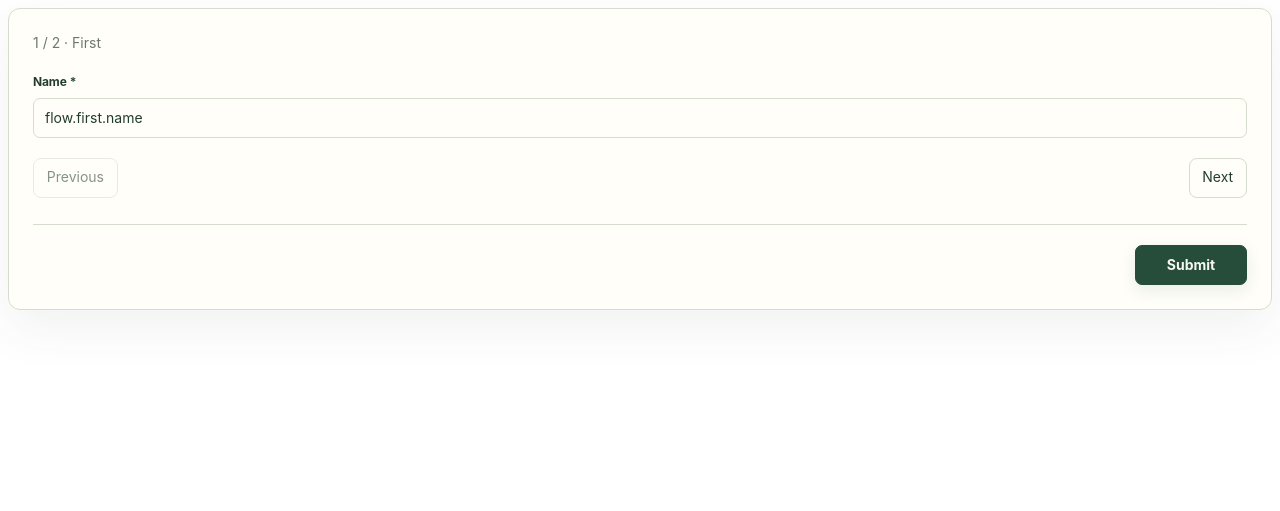
it: groups › reveals and focuses invalid nested inactive and collapsed sections on each submit
Step 1. Click the button "Submit" → coordinates (1191, 265), box x1=1135 y1=245 x2=1247 y2=285
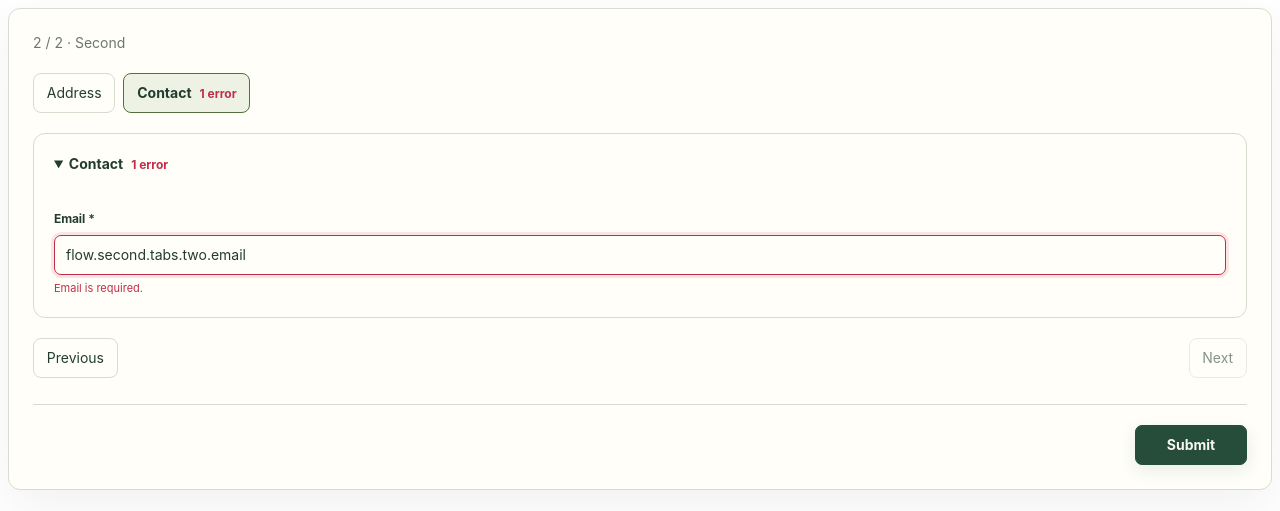
Check: the field labelled "Email *" is shown, box x1=54 y1=235 x2=1226 y2=275
Step 2. Click the tab "Address" → coordinates (74, 93), box x1=33 y1=73 x2=115 y2=113
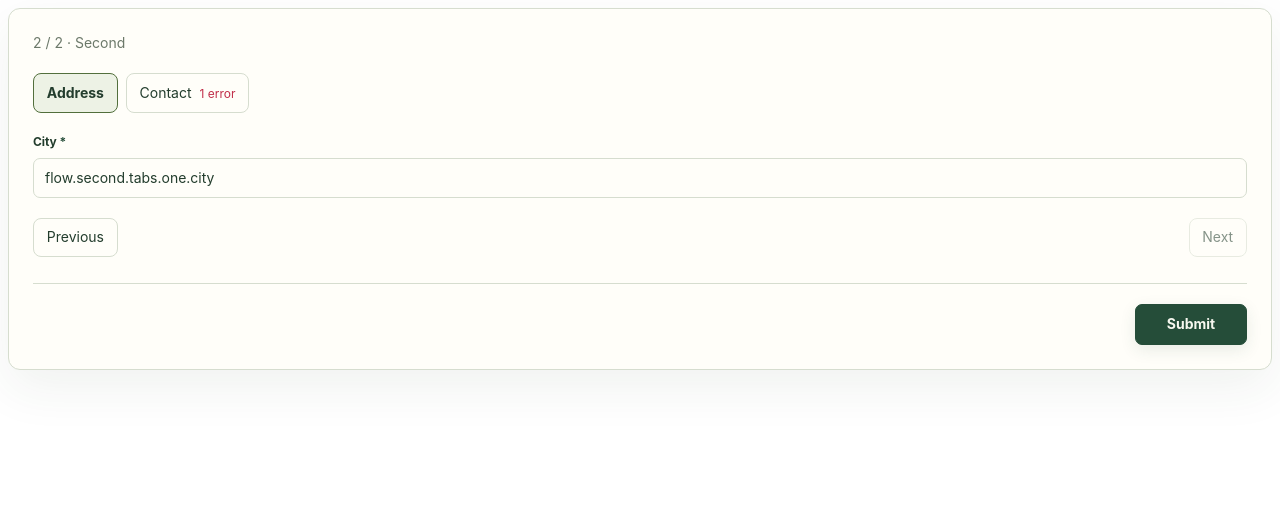
Check: the label labelled "Email" is gone
Step 3. Click the button "Submit" → coordinates (1191, 325), box x1=1135 y1=304 x2=1247 y2=345
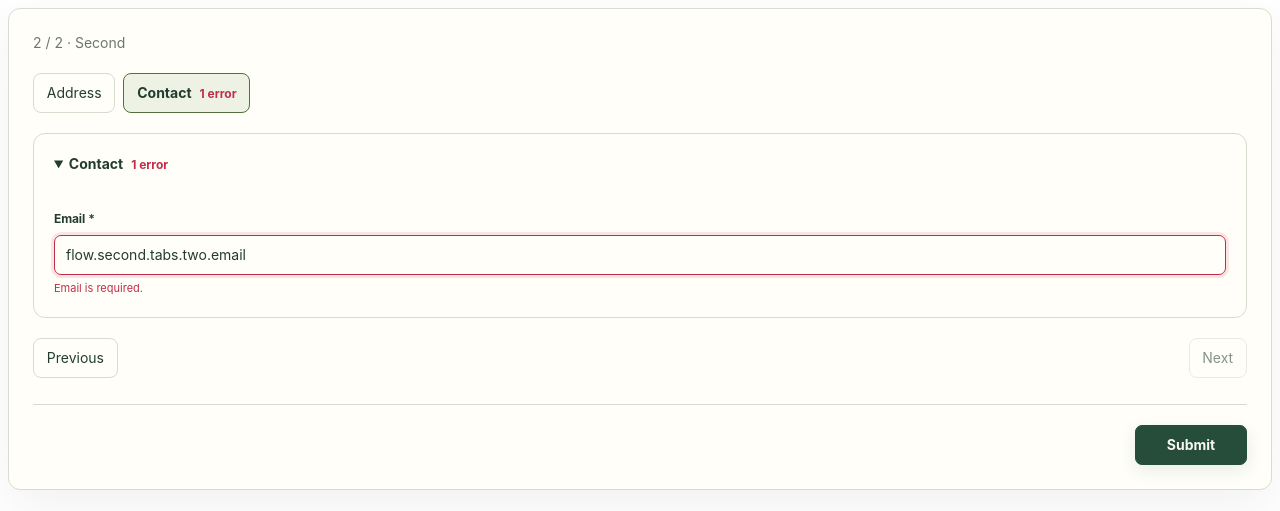
Check: the field labelled "Email *" is shown, box x1=54 y1=235 x2=1226 y2=275
